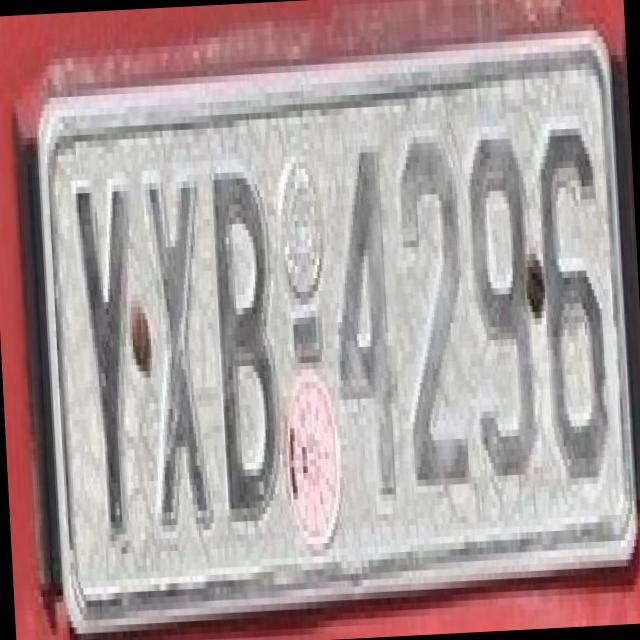2: (383, 122, 472, 488)
4: (316, 120, 406, 498)
6: (526, 109, 615, 474)
9: (453, 119, 542, 484)
B: (196, 138, 284, 516)
X: (128, 148, 215, 534)
Y: (60, 152, 152, 536)
